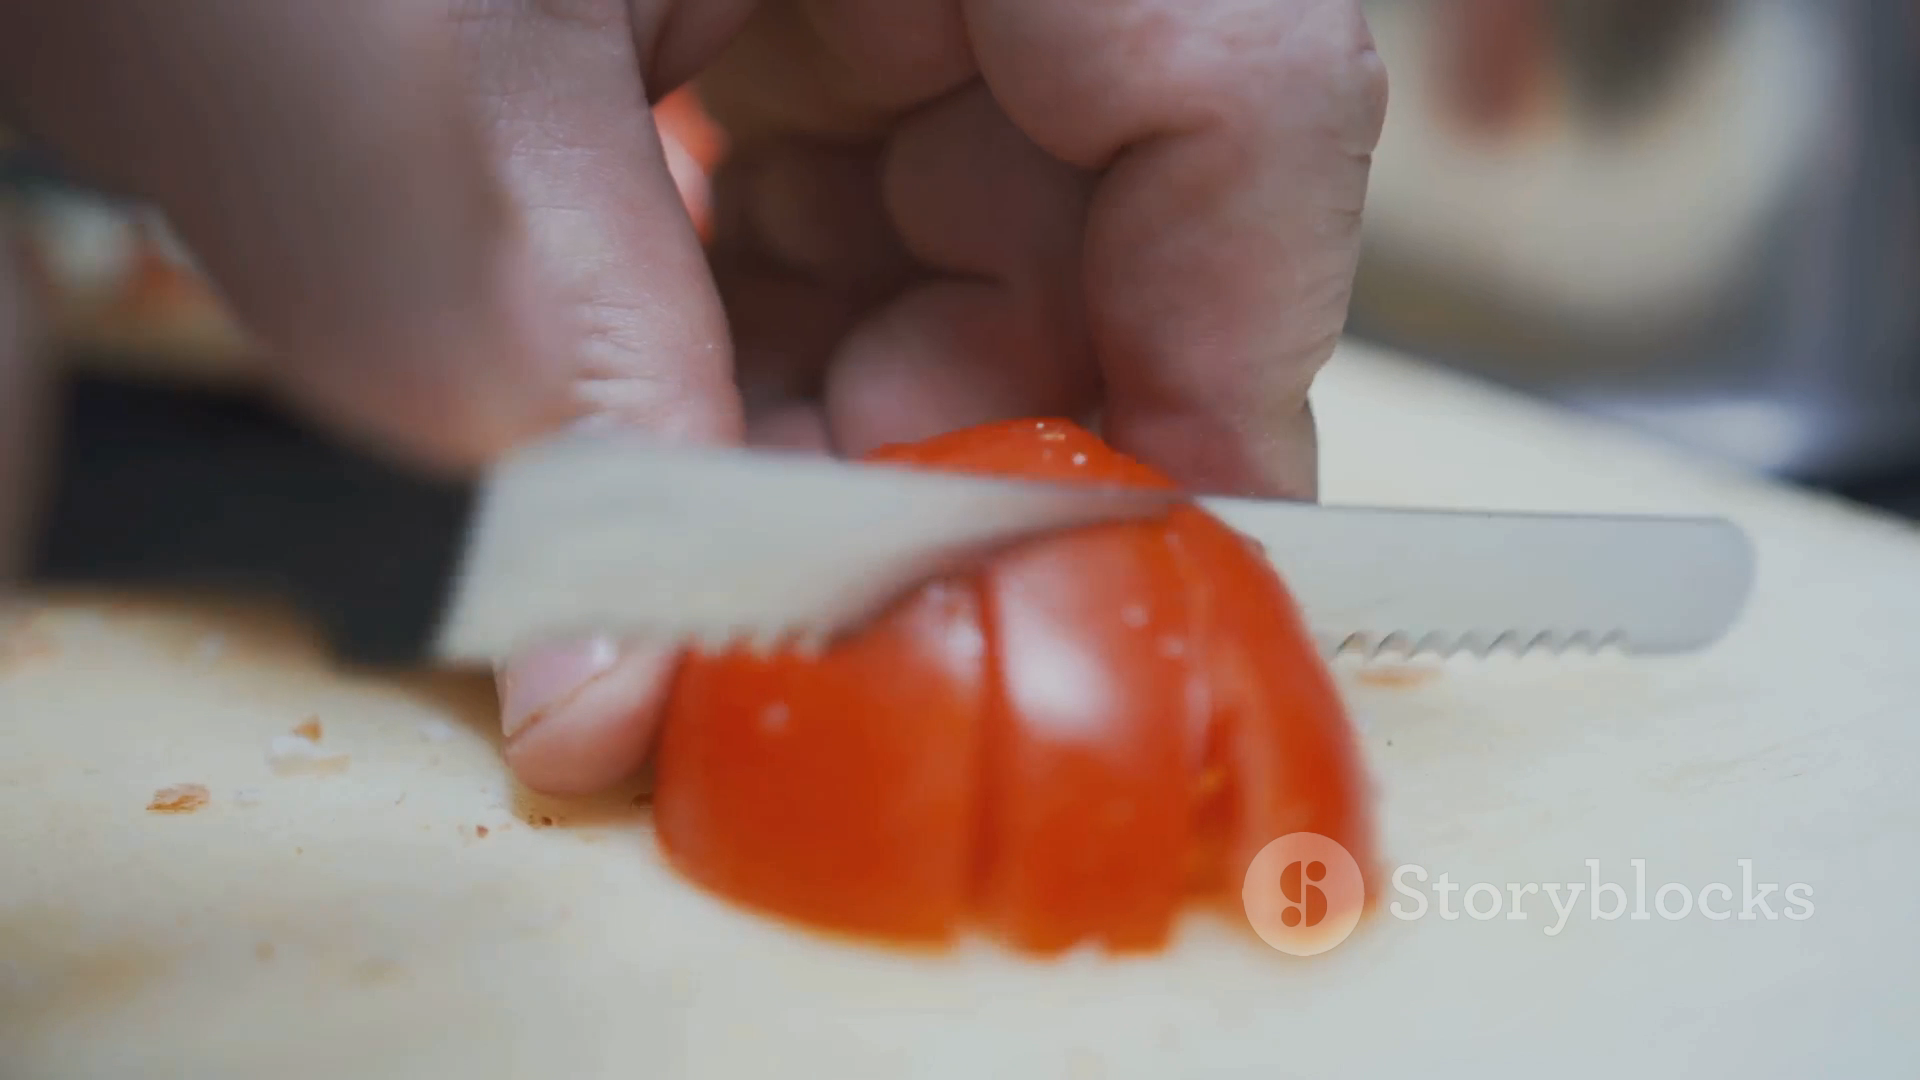cortante: (427, 430, 1758, 661)
